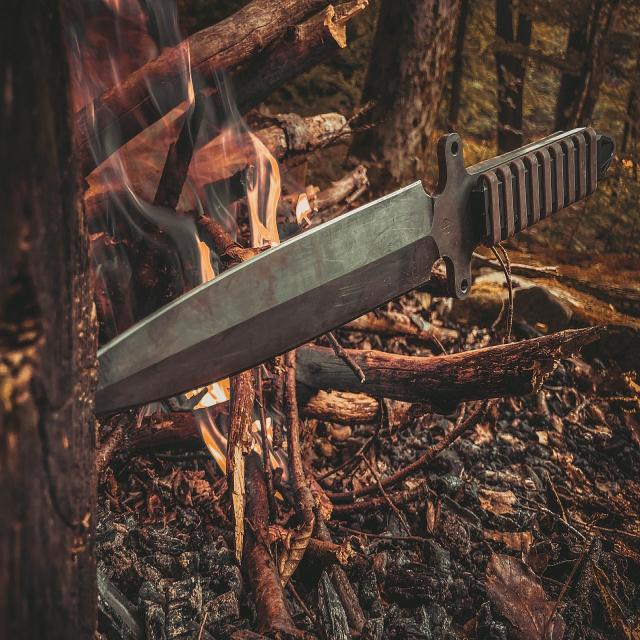knife: (96, 126, 598, 412)
